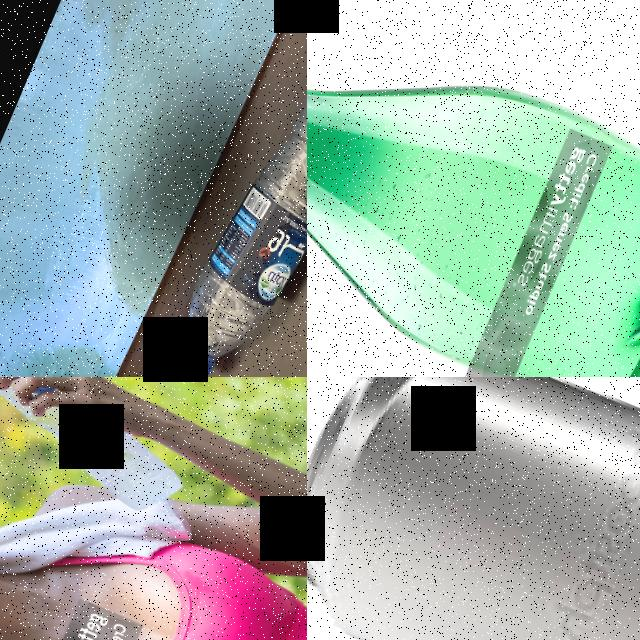bottle: (307, 0, 640, 377), (143, 3, 307, 377), (0, 377, 215, 526)
can: (307, 377, 640, 640)
